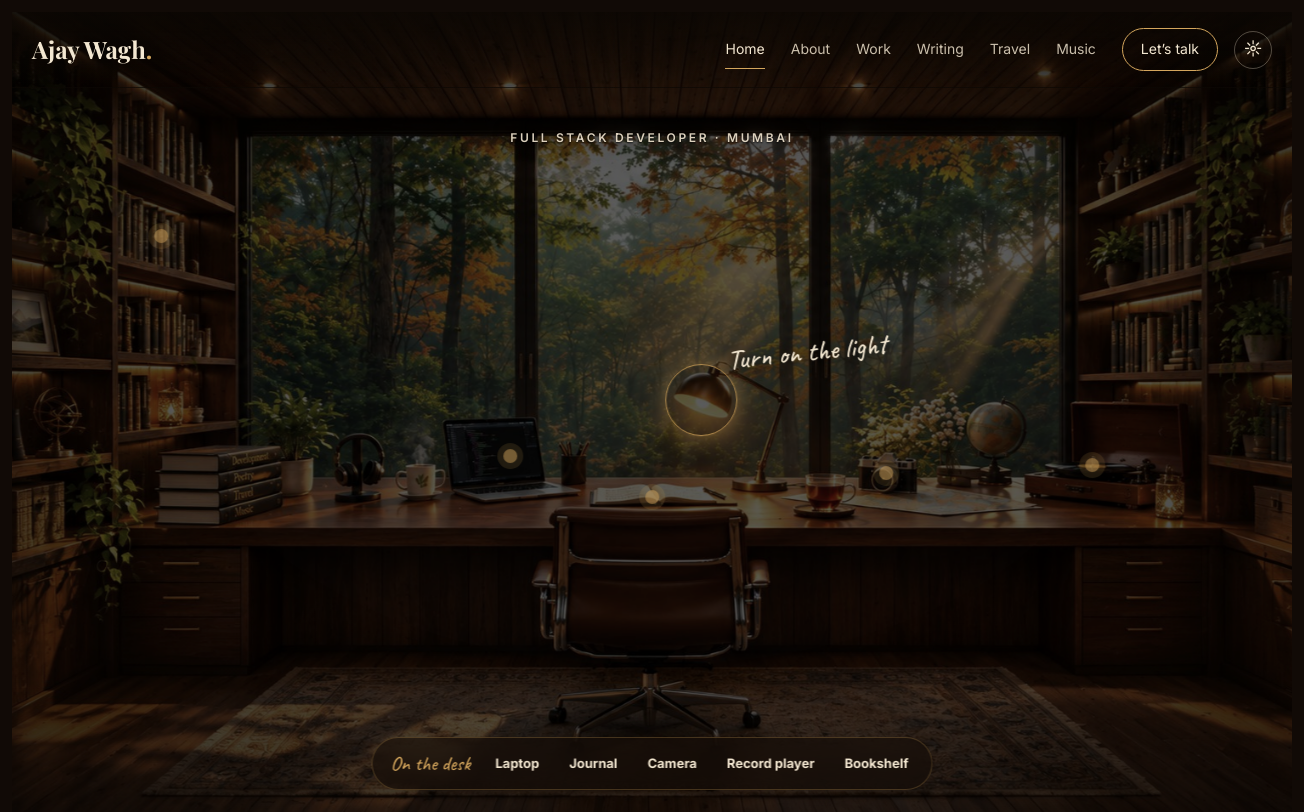
it: the record player plays music from the music folder and keeps playing across pages
This screenshot has width=1304, height=812.
Later steps or results of the test are not shown.
Click the button named "Record player: Play music". click: (1093, 465)
box: [1069, 441, 1117, 489]
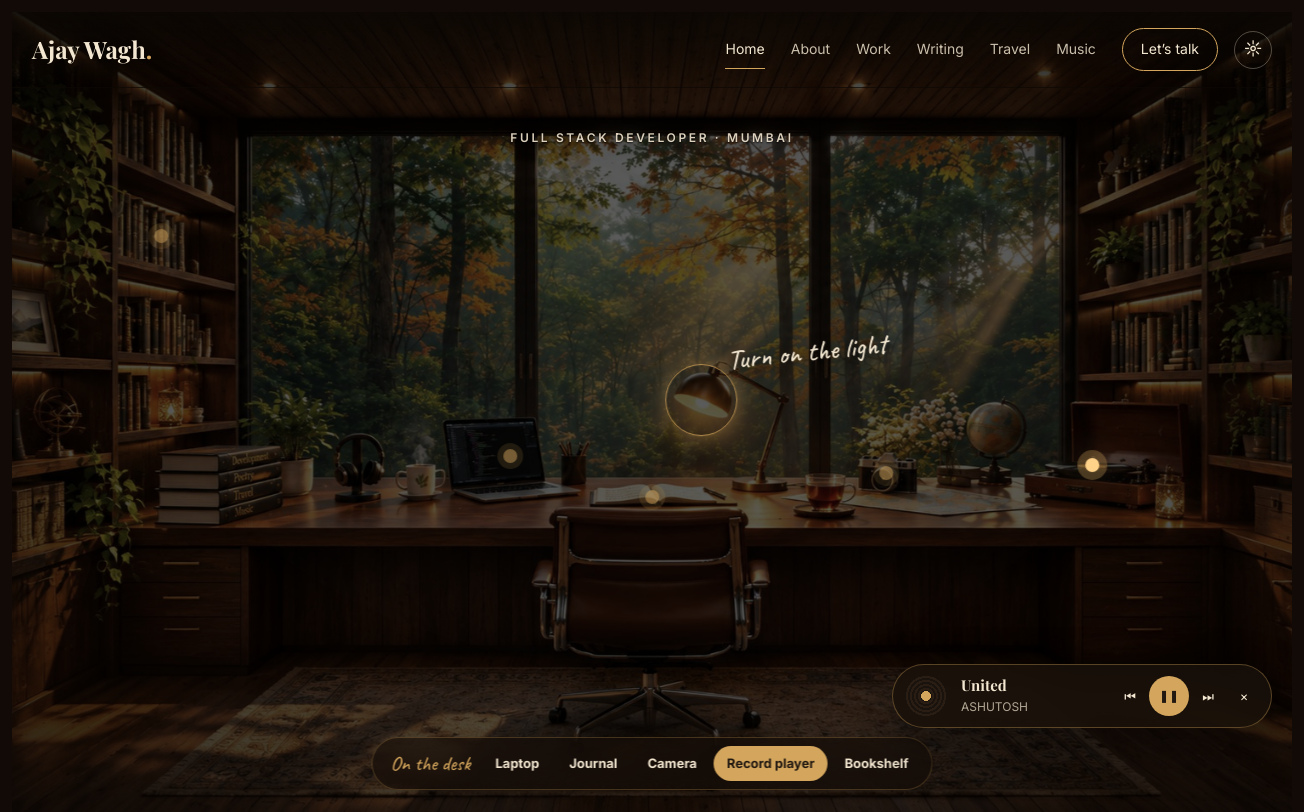
Now the text "United" is shown, box [961, 675, 1007, 695]
